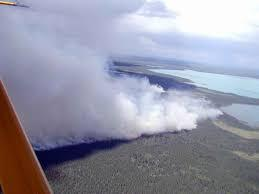yanwu: (0, 1, 224, 151)
